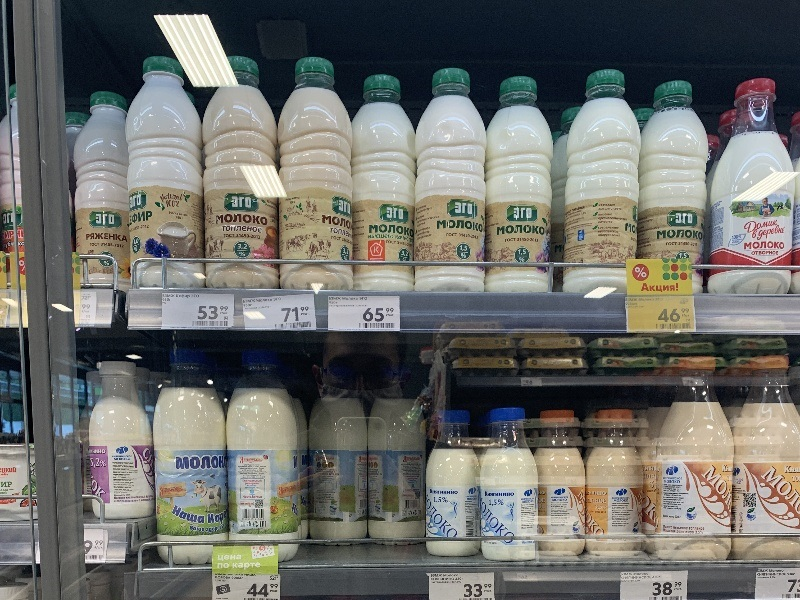milk: (117, 54, 216, 296), (143, 347, 242, 578), (196, 52, 288, 300), (270, 58, 361, 300), (707, 72, 799, 297), (220, 346, 313, 568), (338, 74, 424, 300), (410, 65, 492, 299), (482, 75, 566, 299), (659, 353, 739, 569), (730, 352, 799, 562), (469, 404, 551, 572), (575, 407, 658, 561), (414, 408, 492, 566)
